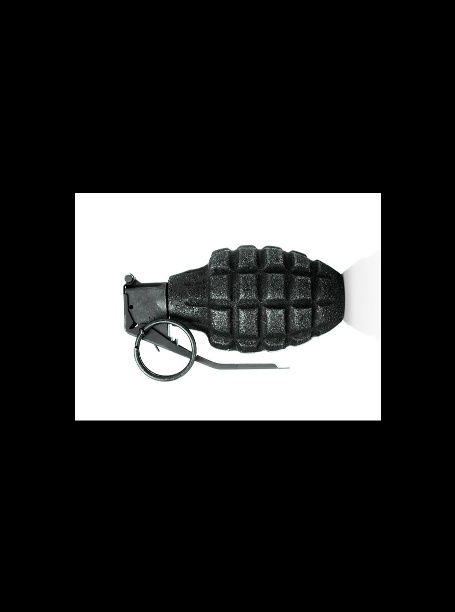e1: (119, 244, 349, 376)
